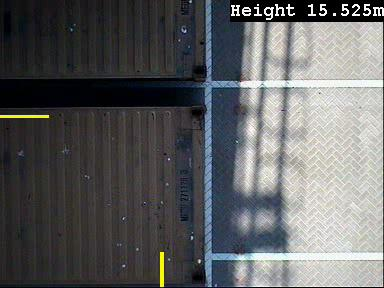groundmarker_2: (203, 123, 241, 174)
